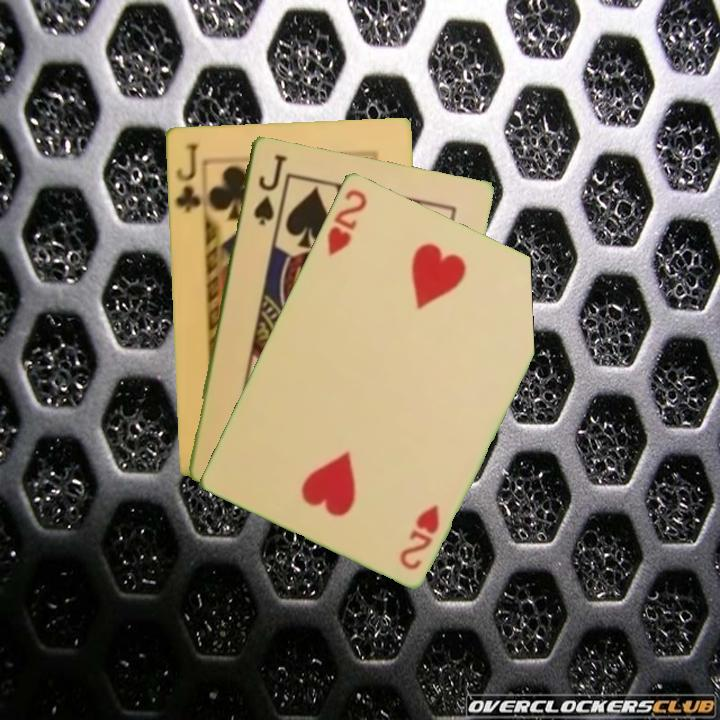2h: (323, 185, 370, 259), (396, 500, 443, 573)
Jc: (172, 139, 203, 216)
Js: (249, 150, 287, 228)
